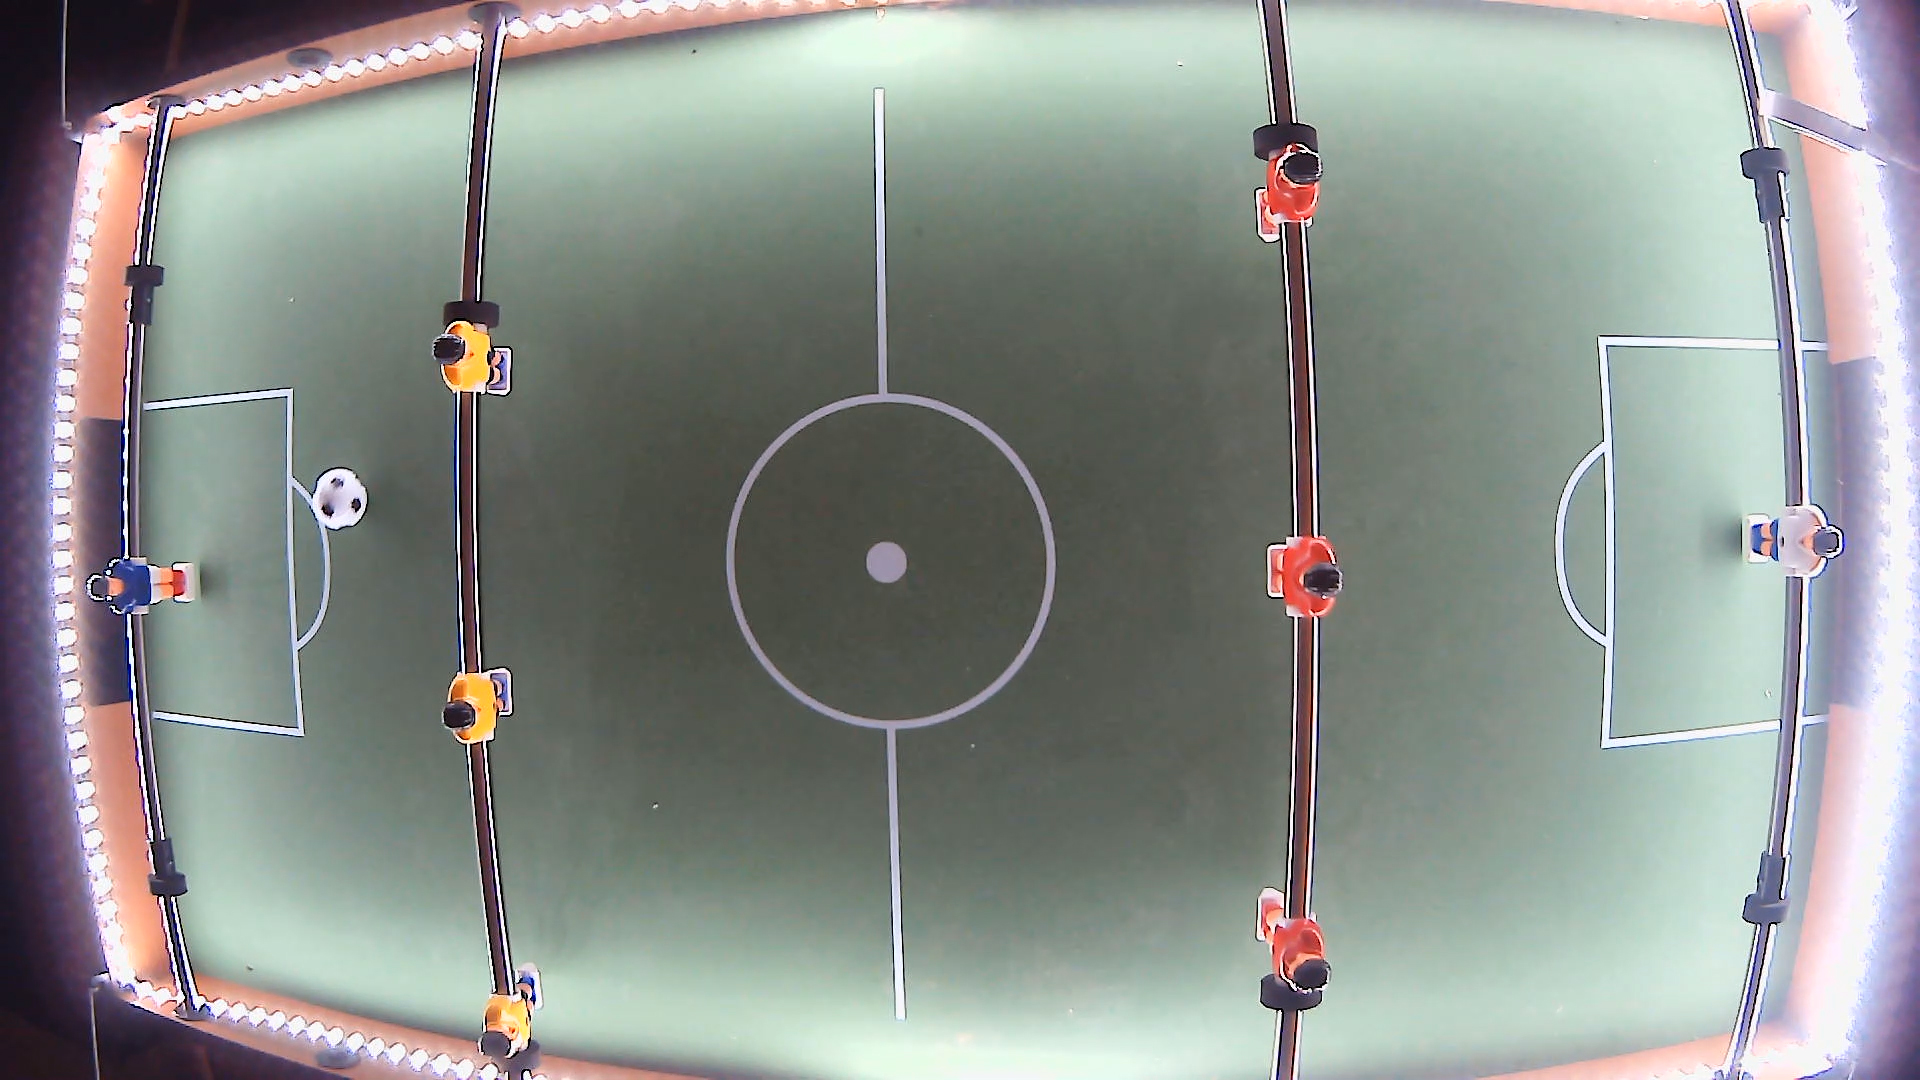Foosball: (311, 467, 368, 531)
